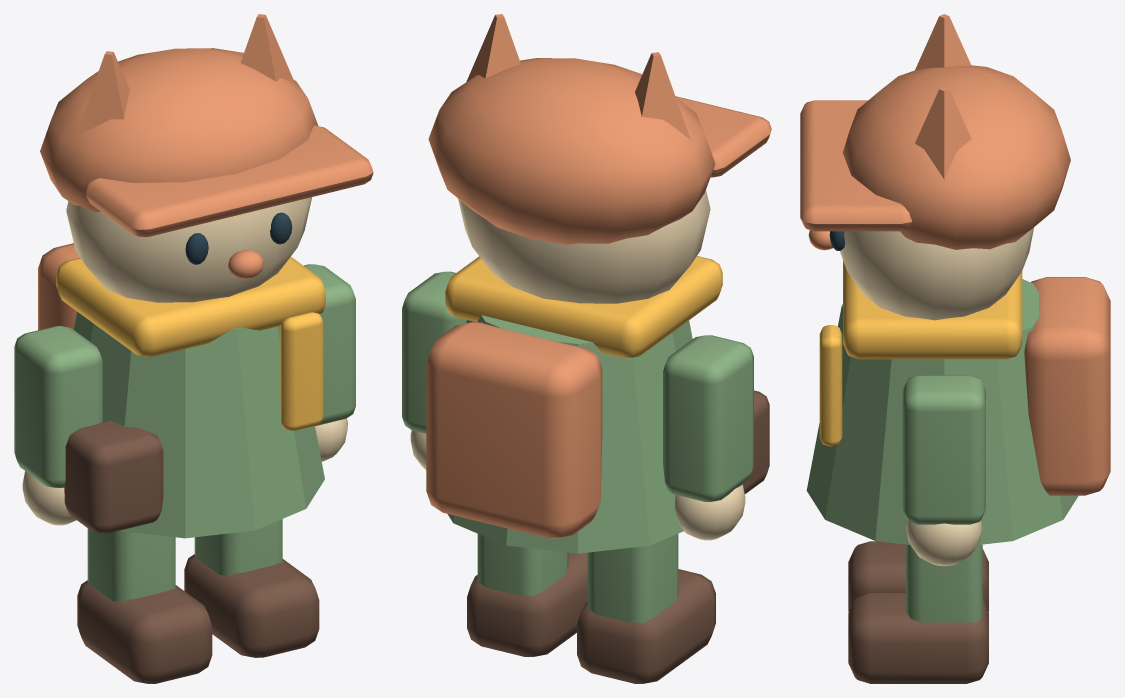
Rendered from fern.glb.
3 views of the same model, side by side, from view 1: azimuth 30°, elevation 25°; view 2: azimuth 150°, elevation 25°; view 3: azimuth 270°, elevation 25° (orthographic). The views are drawn at different scales.
Visible parts, largest first — view 1: Fern_Coat, Fern_Cap, Fern_Face, Fern_CapBrim, Fern_Scarf, Fern_Arm_L_mesh, Fern_Boot_L, Fern_Boot_R, Fern_Satchel, Fern_Leg_L_mesh, Fern_ScarfTail, Fern_Arm_R_mesh (+9 smaller); view 2: Fern_Cap, Fern_FieldPack, Fern_Coat, Fern_Face, Fern_Arm_L_mesh, Fern_Scarf, Fern_Boot_L, Fern_Boot_R, Fern_Leg_L_mesh, Fern_Arm_R_mesh, Fern_Leg_R_mesh, Fern_CapBrim (+4 smaller); view 3: Fern_Cap, Fern_Coat, Fern_FieldPack, Fern_Arm_R_mesh, Fern_Face, Fern_Boot_R, Fern_Scarf, Fern_CapBrim, Fern_Leg_R_mesh, Fern_Boot_L, Fern_ScarfTail, Fern_CapEar.001 (+2 smaller).
Boxes of the visible parts, left/top/right/bottom form: Fern_Coat: left=74, top=312, right=324, bottom=538; Fern_Cap: left=40, top=48, right=318, bottom=212; Fern_Face: left=66, top=197, right=312, bottom=302; Fern_CapBrim: left=84, top=125, right=373, bottom=237; Fern_Scarf: left=56, top=256, right=325, bottom=356; Fern_Arm_L_mesh: left=14, top=326, right=102, bottom=487; Fern_Boot_L: left=77, top=580, right=212, bottom=683; Fern_Boot_R: left=184, top=554, right=319, bottom=657; Fern_Satchel: left=64, top=421, right=163, bottom=533; Fern_Leg_L_mesh: left=87, top=528, right=175, bottom=602; Fern_ScarfTail: left=280, top=312, right=323, bottom=430; Fern_Arm_R_mesh: left=304, top=264, right=355, bottom=426; Fern_Cap: left=428, top=58, right=715, bottom=244; Fern_FieldPack: left=426, top=322, right=602, bottom=538; Fern_Coat: left=447, top=315, right=692, bottom=553; Fern_Face: left=458, top=190, right=710, bottom=303; Fern_Arm_L_mesh: left=663, top=335, right=753, bottom=501; Fern_Scarf: left=445, top=256, right=722, bottom=358; Fern_Boot_L: left=577, top=569, right=715, bottom=683; Fern_Boot_R: left=467, top=552, right=587, bottom=656; Fern_Leg_L_mesh: left=587, top=534, right=678, bottom=623; Fern_Arm_R_mesh: left=402, top=271, right=466, bottom=433; Fern_Leg_R_mesh: left=477, top=534, right=568, bottom=596; Fern_CapBrim: left=675, top=96, right=771, bottom=177; Fern_Cap: left=843, top=65, right=1070, bottom=249; Fern_Coat: left=806, top=279, right=1078, bottom=544; Fern_FieldPack: left=1024, top=277, right=1110, bottom=495; Fern_Arm_R_mesh: left=902, top=375, right=985, bottom=524; Fern_Face: left=840, top=227, right=1033, bottom=320; Fern_Boot_R: left=848, top=592, right=988, bottom=683; Fern_Scarf: left=843, top=260, right=1022, bottom=359; Fern_CapBrim: left=800, top=100, right=912, bottom=231; Fern_Leg_R_mesh: left=906, top=544, right=982, bottom=622; Fern_Boot_L: left=848, top=541, right=988, bottom=611; Fern_ScarfTail: left=819, top=325, right=842, bottom=446; Fern_CapEar.001: left=915, top=87, right=971, bottom=179.
Bounding box in the file's own units: 0.5463 × 1 × 0.4732.
